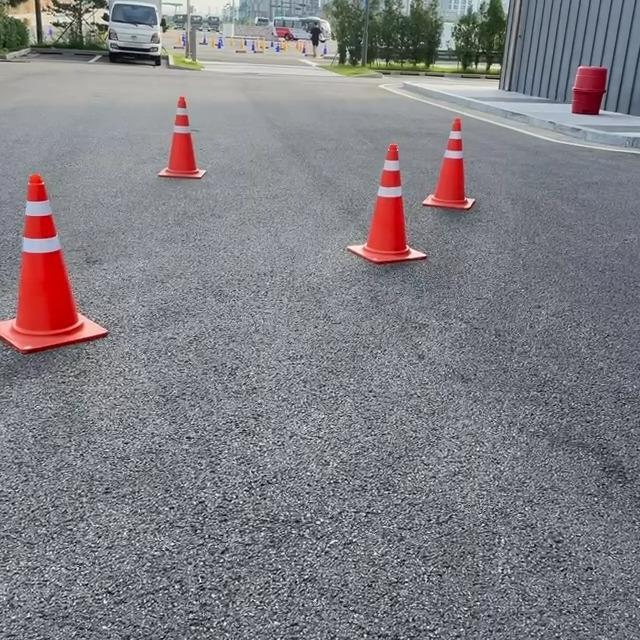fallen_object: (0, 162, 136, 356), (123, 73, 251, 212), (336, 135, 422, 276), (420, 103, 493, 212)
